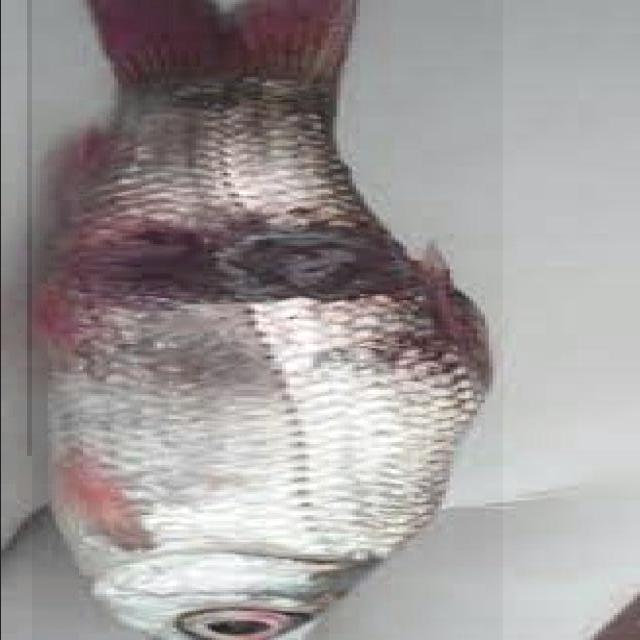EUS Disease: (31, 0, 502, 640), (26, 0, 491, 456)
